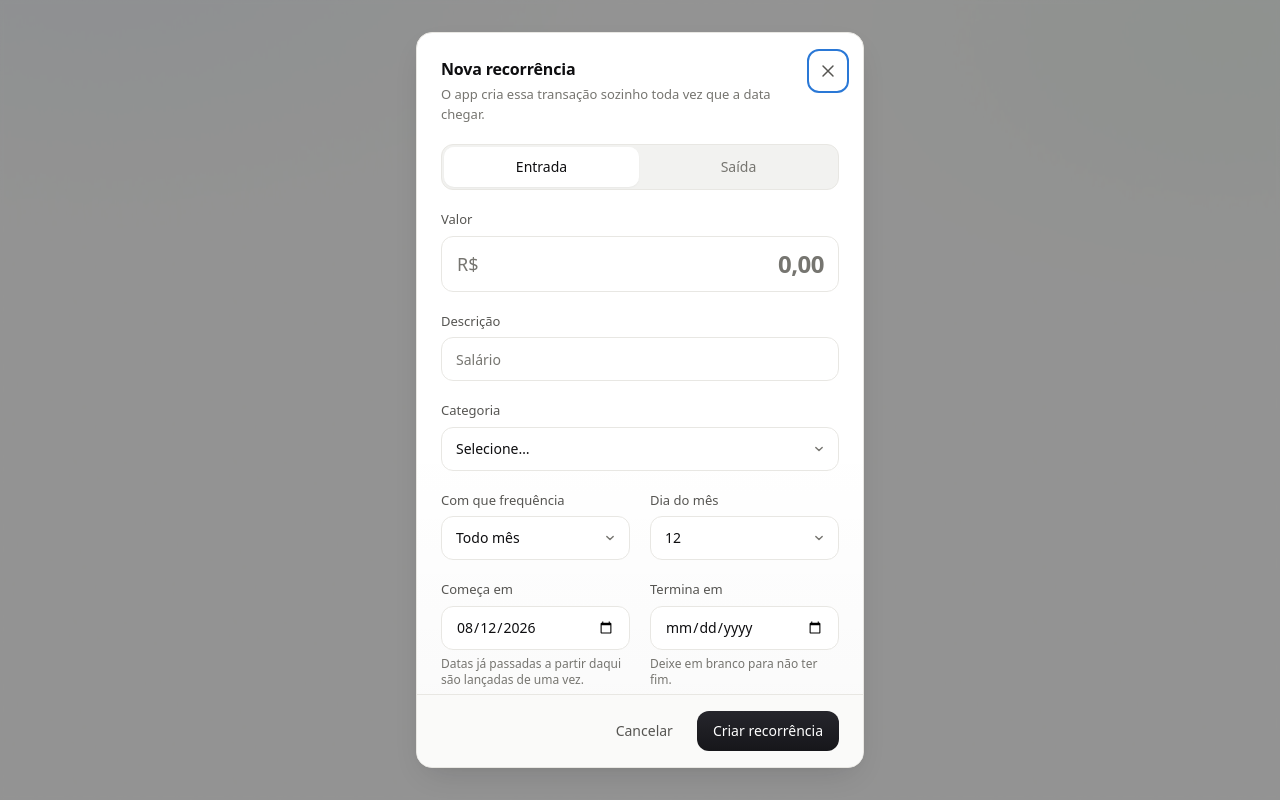
Scenario: diálogo de recorrência › bloqueia o envio e explica o que falta
Click the button "Criar recorrência". click: (768, 731)
box: top-left (697, 711), bottom-right (839, 751)
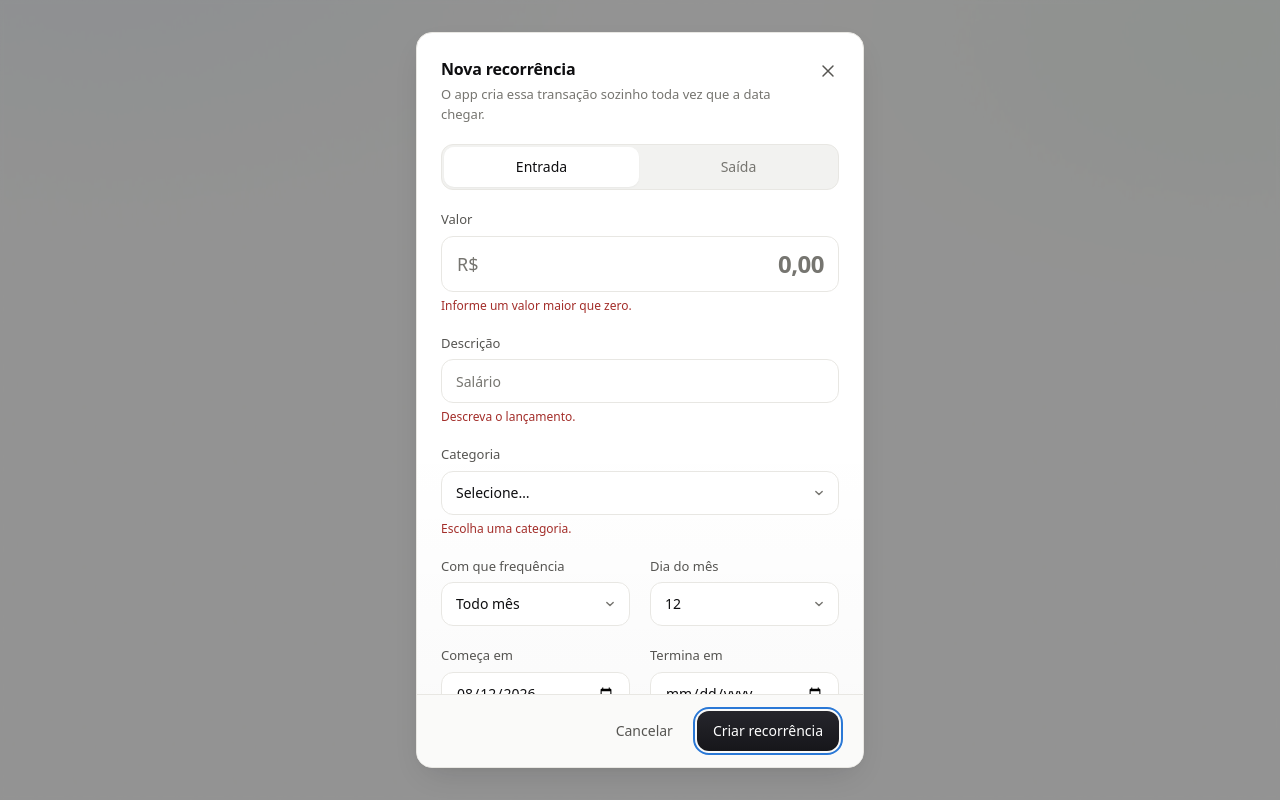
Check: the text "Informe um valor maior que zero." is shown, box top-left (441, 296), bottom-right (632, 314)
Check: the text "Descreva o lançamento." is shown, box top-left (441, 408), bottom-right (576, 425)
